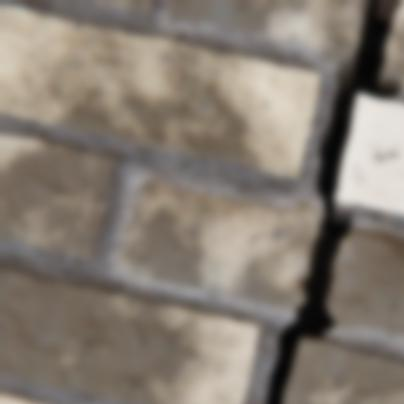brick: (0, 5, 320, 178), (0, 265, 259, 403), (0, 134, 119, 259), (336, 95, 403, 214), (284, 337, 403, 403), (71, 0, 154, 16), (0, 393, 37, 403)
broken_brick: (118, 183, 324, 310), (169, 0, 364, 66), (327, 228, 403, 335), (381, 4, 403, 89)
crack: (265, 0, 403, 403)
